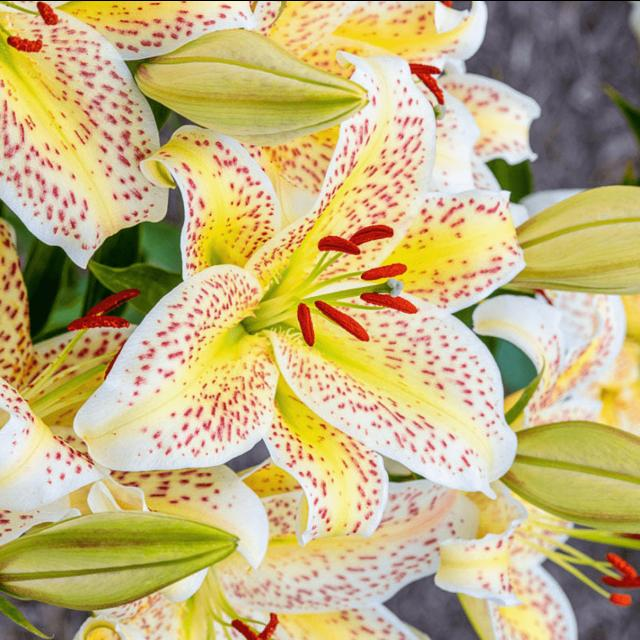lily: (107, 68, 520, 554)
